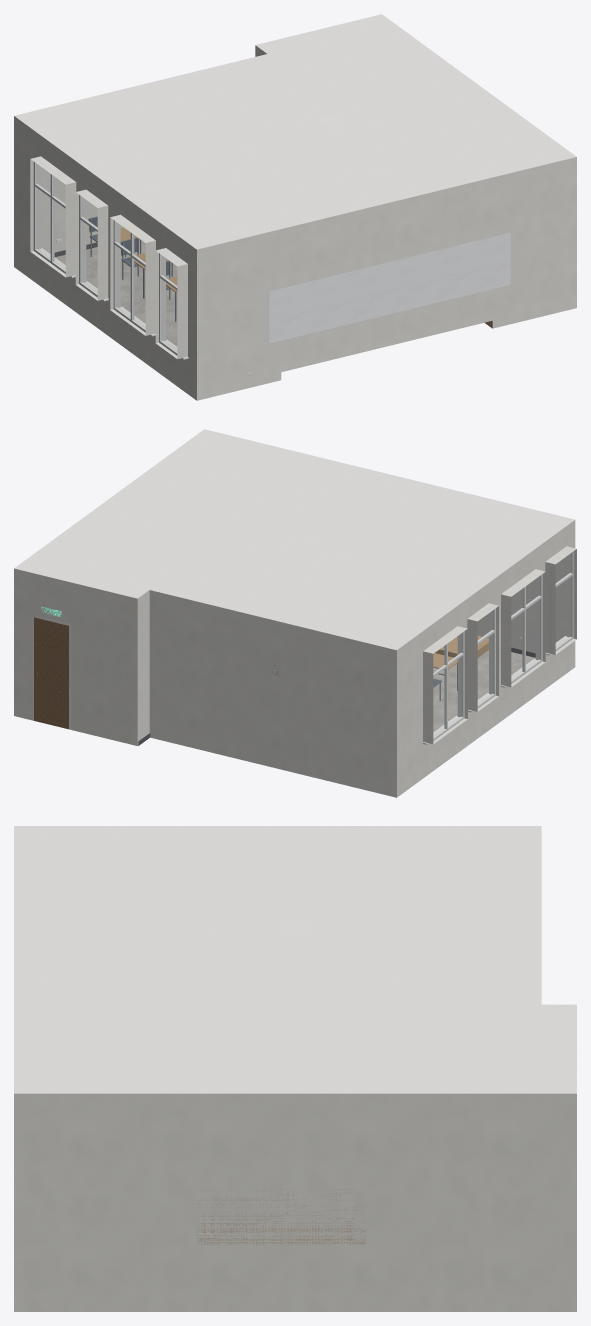
File: classroom.glb
3 views of the same model, one above another, from view 1: azimuth 30°, elevation 25°; view 2: azimuth 150°, elevation 25°; view 3: azimuth 270°, elevation 25° (orthographic). The views are drawn at different scales.
Visible parts, largest first — view 1: ROOM_BAKED; view 2: ROOM_BAKED; view 3: ROOM_BAKED.
Part boxes in pixels (x1,y1,x2,y2): ROOM_BAKED: [14, 14, 576, 400]; ROOM_BAKED: [14, 429, 576, 797]; ROOM_BAKED: [14, 826, 576, 1311].
Size of the model in its own units: 9.25 by 3.42 by 8.
25 materials, 9 textured.
